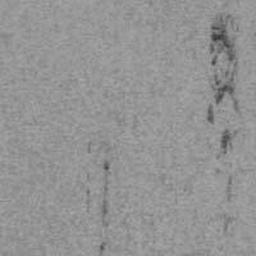Inclusion: (205, 10, 243, 124), (97, 157, 111, 256), (218, 125, 234, 155), (223, 215, 238, 230), (225, 175, 233, 202), (84, 188, 90, 197)
